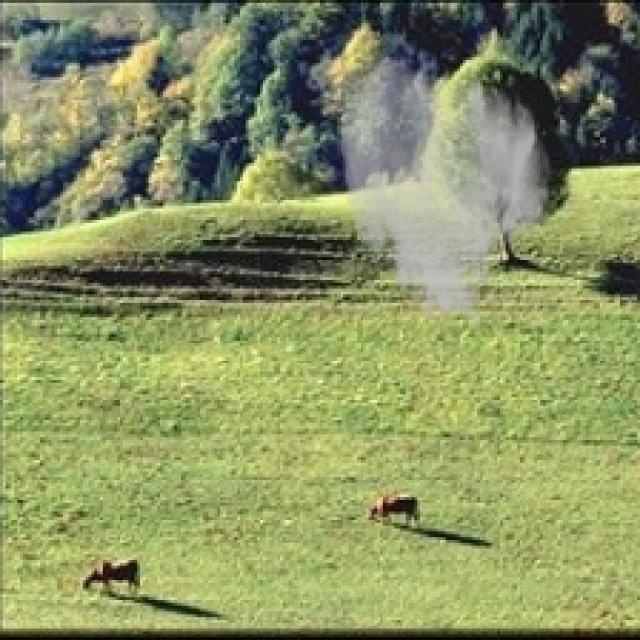Smoke: (334, 52, 554, 334)
